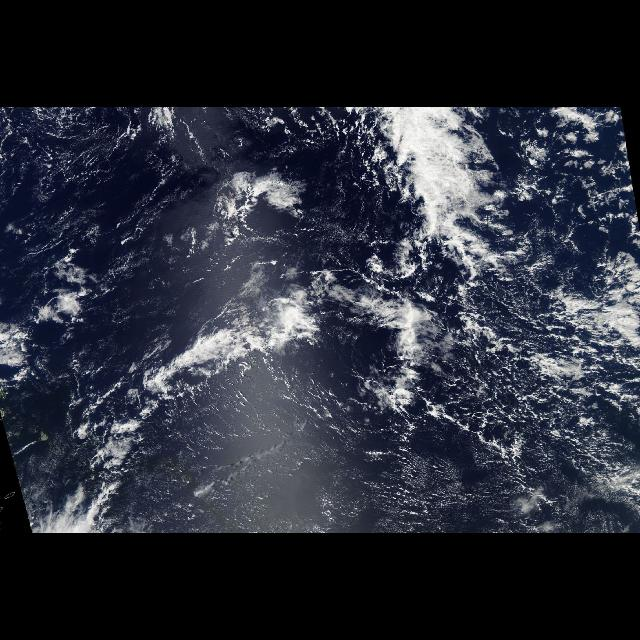Fish: (74, 284, 340, 476), (322, 126, 538, 244)
Gravel: (412, 280, 632, 496), (159, 343, 411, 503), (9, 109, 120, 210)
Sugar: (159, 397, 493, 529)
